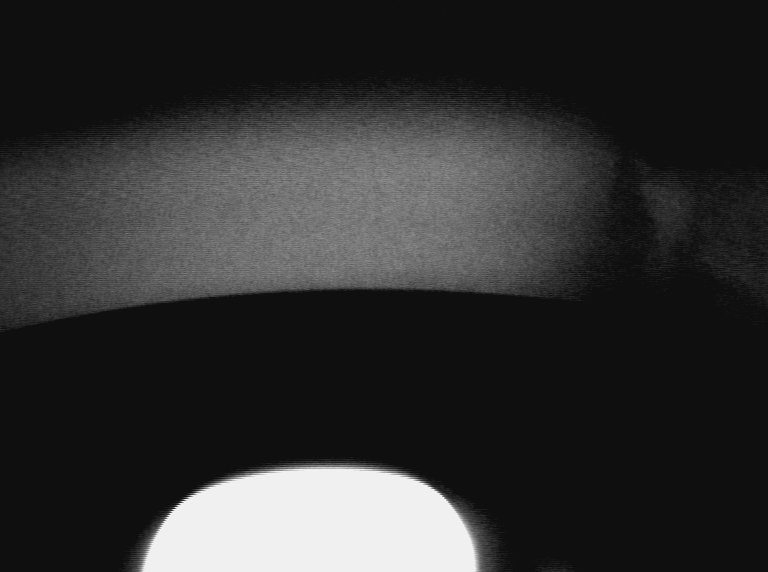defect: (640, 173, 704, 268)
